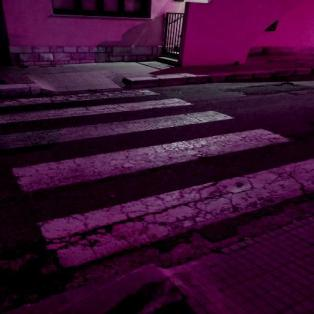Paso de Cebra: (5, 128, 314, 272)
